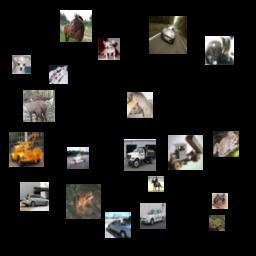automobile: (149, 16, 187, 54), (20, 182, 49, 211), (105, 212, 131, 238), (140, 203, 166, 229)
cat: (205, 36, 234, 65), (127, 92, 153, 118), (212, 193, 228, 209)
deer: (23, 90, 55, 122)
dog: (98, 38, 120, 60), (12, 55, 31, 74)
frog: (66, 184, 101, 219), (213, 131, 239, 157), (209, 215, 225, 231)
ship: (67, 147, 89, 169), (49, 65, 68, 84)
truck: (9, 132, 44, 167), (168, 135, 203, 170), (124, 139, 156, 171)
